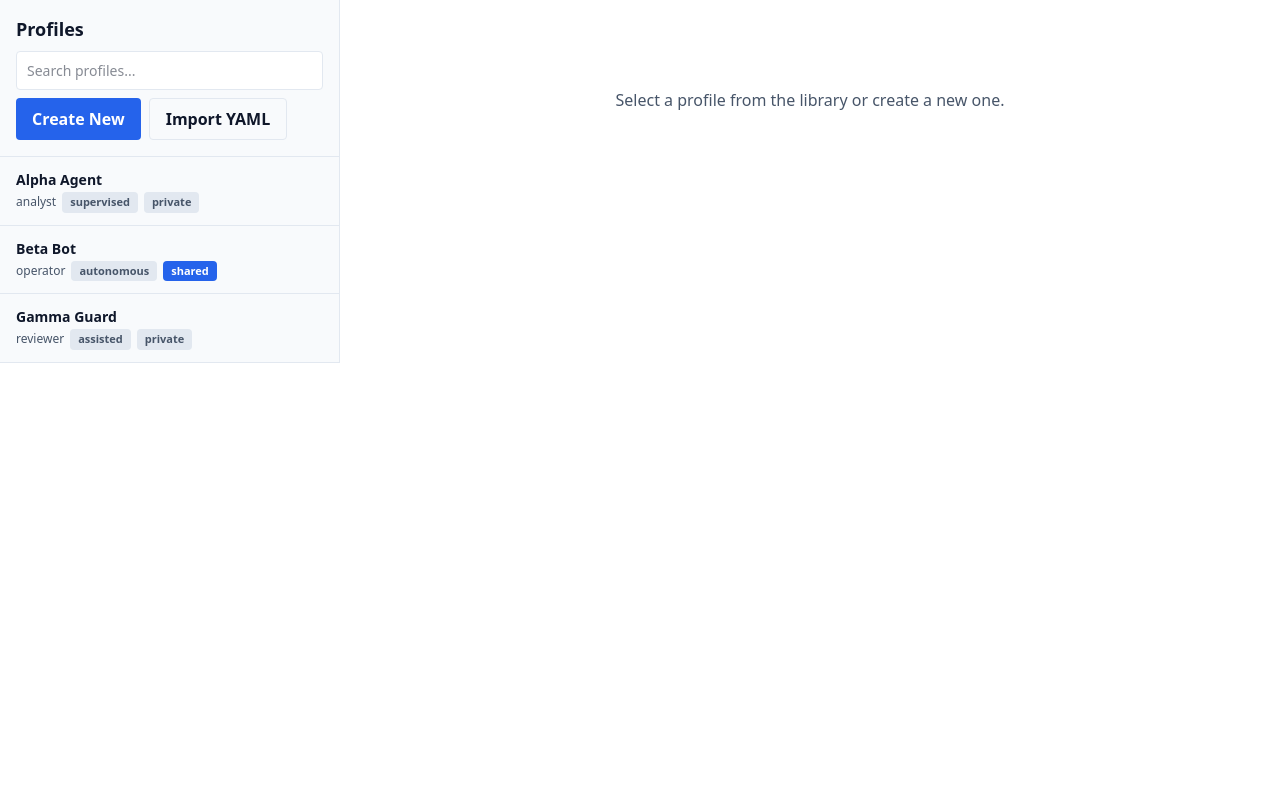
Test: ProfilesPage — edit existing profile › shows editor with profile data when a profile is selected
Step 1. Click the text "Alpha Agent" → [59, 180], box [16, 170, 102, 189]
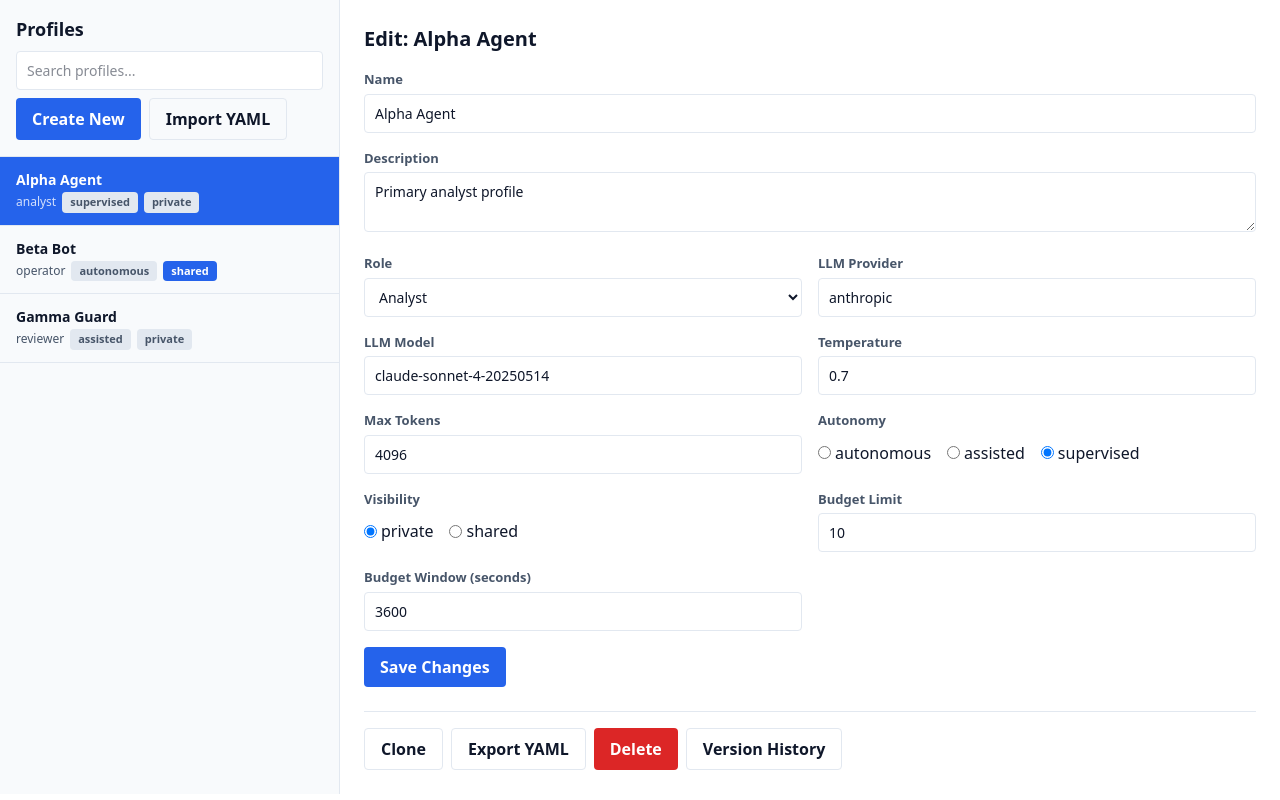
expect the heading "Edit: Alpha Agent" is shown: met, box [364, 25, 537, 52]
